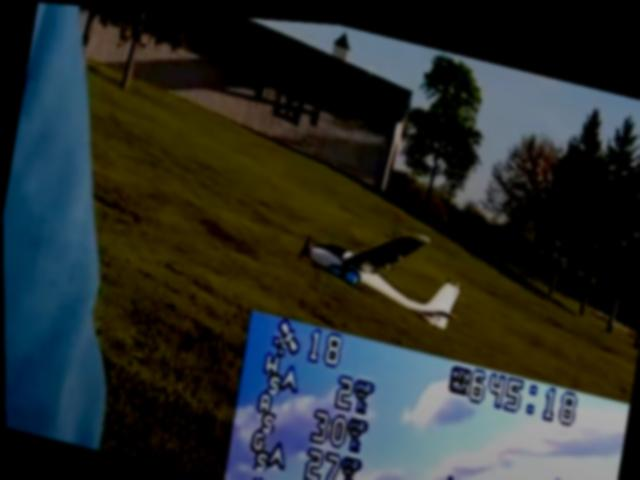iha: (288, 197, 470, 327)
